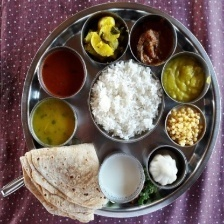dal: (30, 99, 77, 144)
